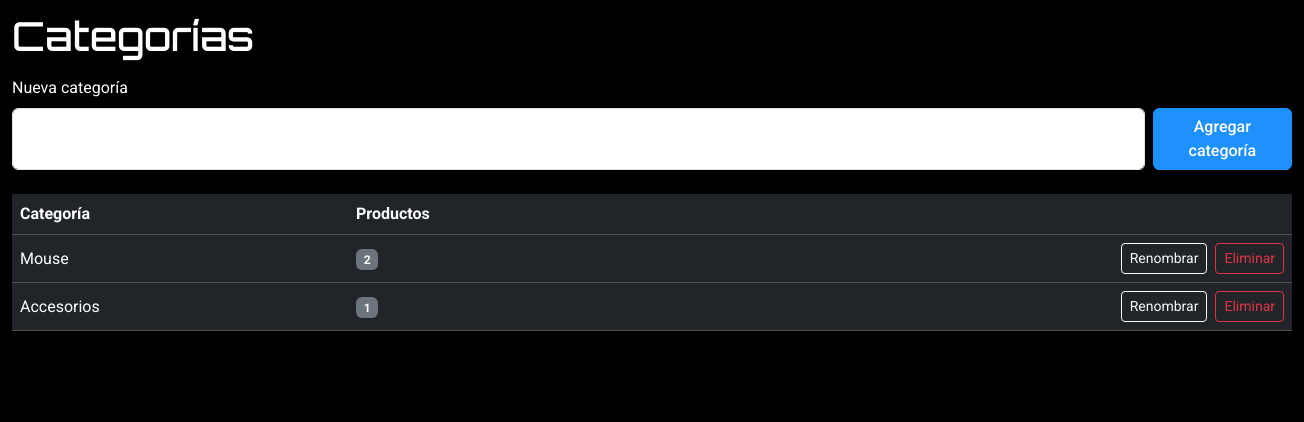
Scenario: AdminCategoriasView › renombra una categoría desde la fila
Click the button with aria-label "Renombrar Mouse". click: {"x": 1164, "y": 258}
box: [1121, 243, 1208, 274]
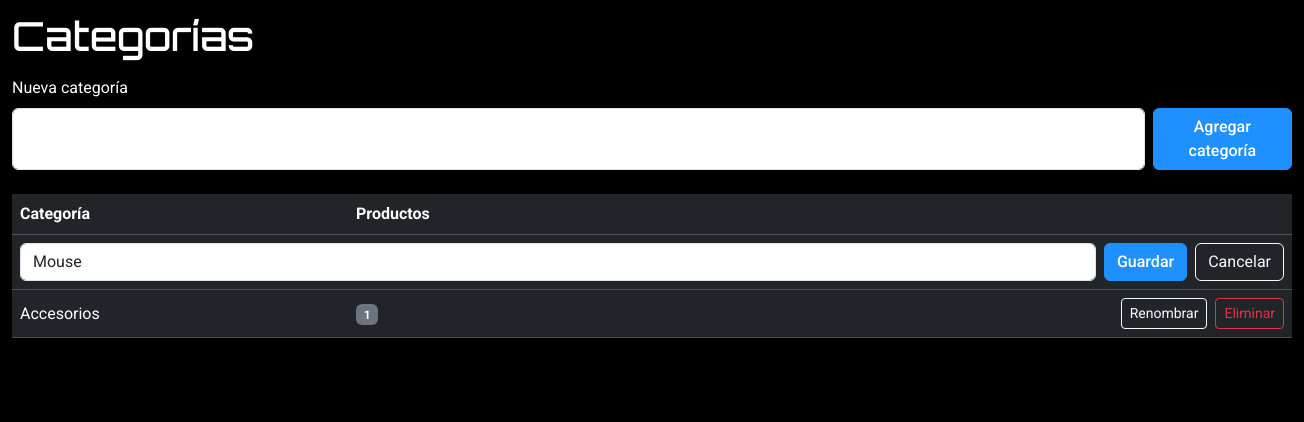
Result: the field named "Nuevo nombre de Mouse" holds "Mouse"
Replace the text in the field named "Nuevo nombre de Mouse" with "Ratones". click: {"x": 558, "y": 262}
box: [20, 243, 1096, 281]
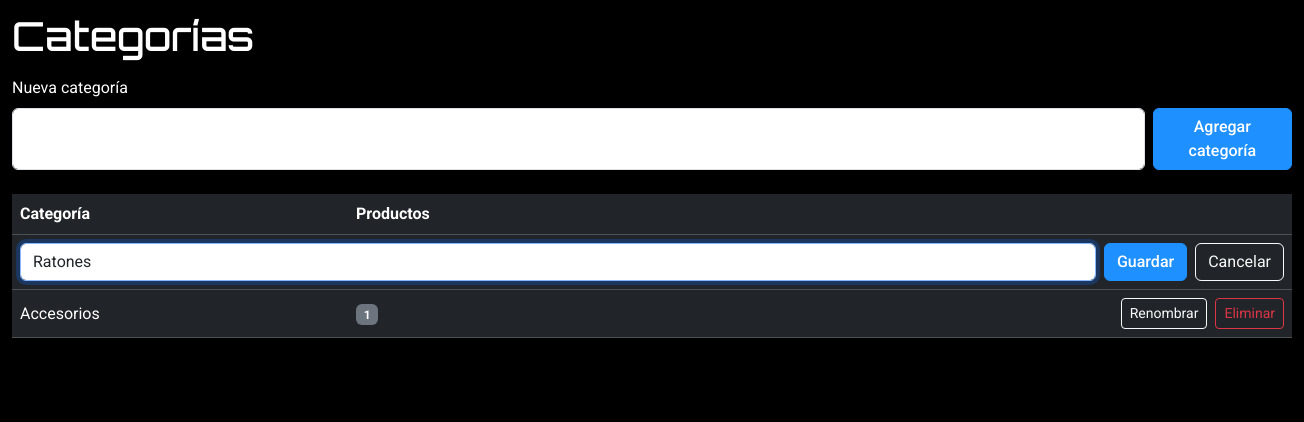
Click the button "Guardar". click: {"x": 1146, "y": 262}
box: [1104, 243, 1187, 281]
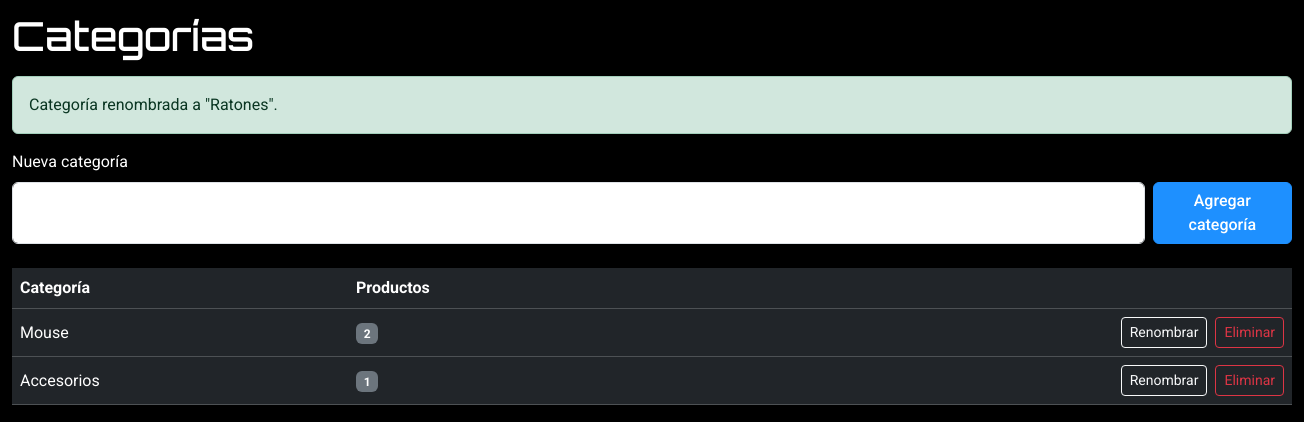
Result: the message reads "Categoría renombrada a \"Ratones\"." at [29, 95, 278, 114]
